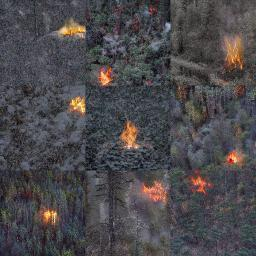Small fire: (52, 13, 93, 41), (61, 92, 92, 119)
